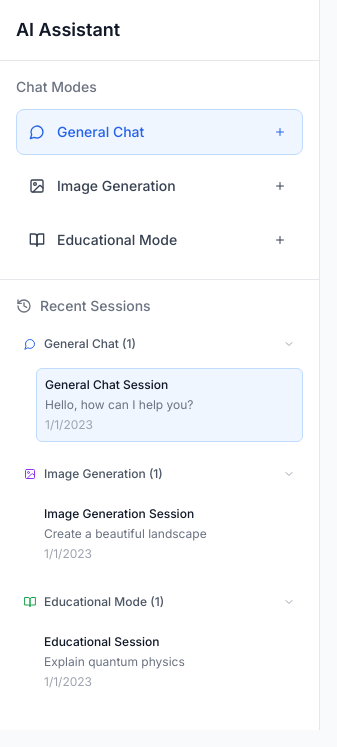
Test: SideMenu › toggles section expansion when section header is clicked
What coordinates should you click on to do the following:
click the button "General Chat (1)"
I would click on:
 (81, 344)
Its box is [16,328,303,360].
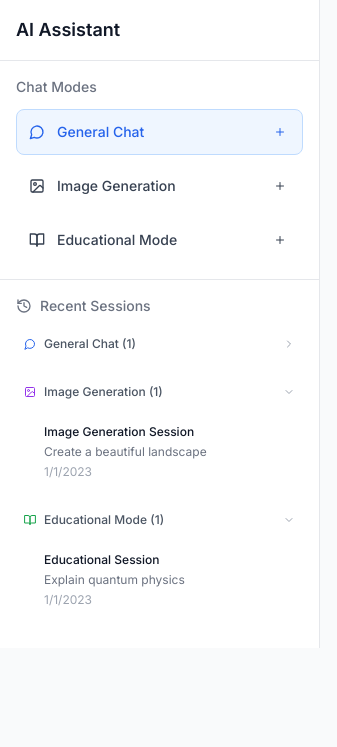
Now the button "General Chat Session" is gone
// Click again to expand
What coordinates should you click on to do the following:
click the button "General Chat (1)"
I would click on:
 (81, 344)
Its box is [16,328,303,360].
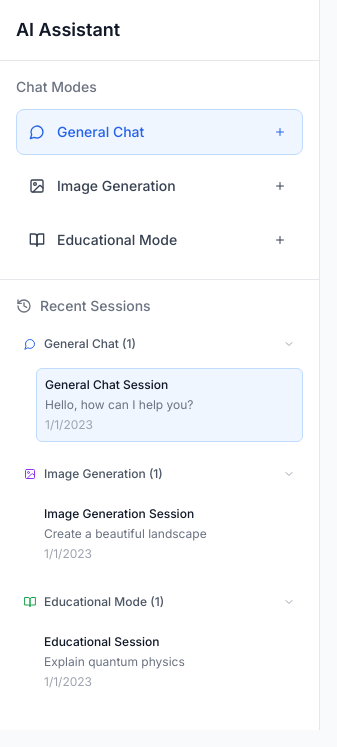
Now the text "General Chat Session" is shown, box [45,377,168,392]
